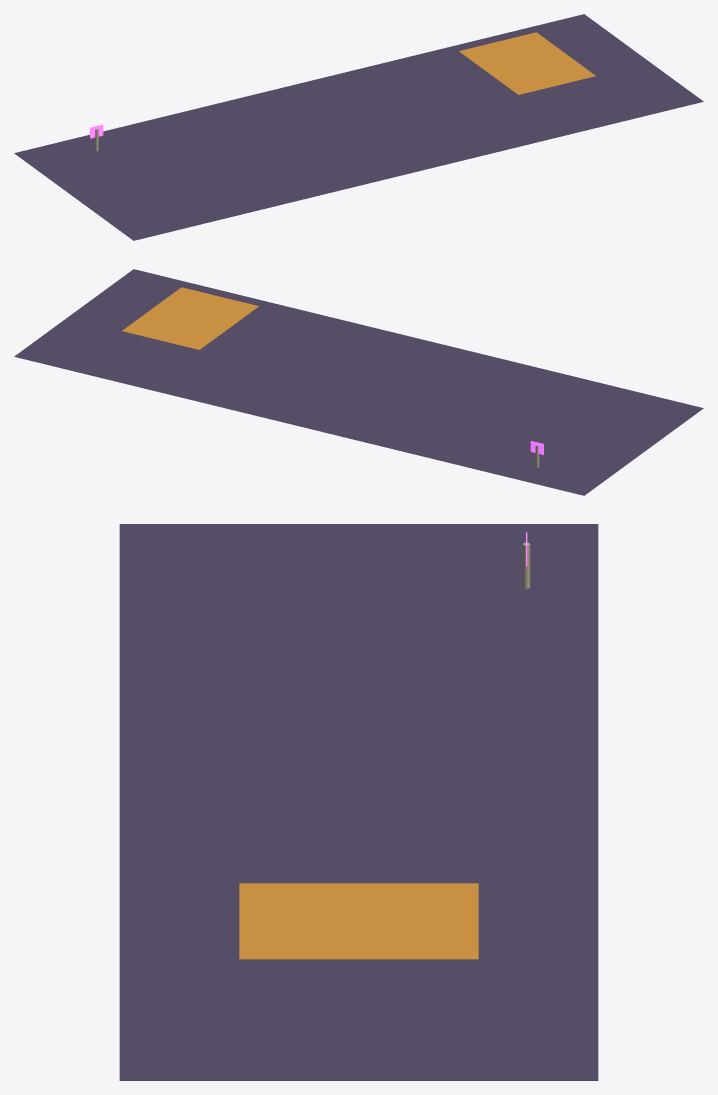
The model's file is echo-throne-steps.glb.
3 renders of one model, top to bottom at view 1: azimuth 30°, elevation 25°; view 2: azimuth 150°, elevation 25°; view 3: azimuth 270°, elevation 25°, orthographic. The views are drawn at different scales.
Visible parts, largest first — view 1: throne-low-floor, throne-dais, throne-first-platform; view 2: throne-low-floor, throne-dais, throne-first-platform; view 3: throne-low-floor, throne-dais, throne-first-platform.
Part boxes in pixels (x1,y1,x2,y2): throne-low-floor: (14, 14, 703, 240); throne-dais: (459, 32, 595, 94); throne-first-platform: (407, 62, 518, 118); throne-low-floor: (14, 269, 703, 495); throne-dais: (122, 287, 258, 349); throne-first-platform: (199, 317, 310, 373); throne-low-floor: (119, 524, 598, 1080); throne-dais: (239, 883, 478, 959); throne-first-platform: (239, 855, 478, 883).
Size of the model in its own units: 22 by 0.9 by 8.
